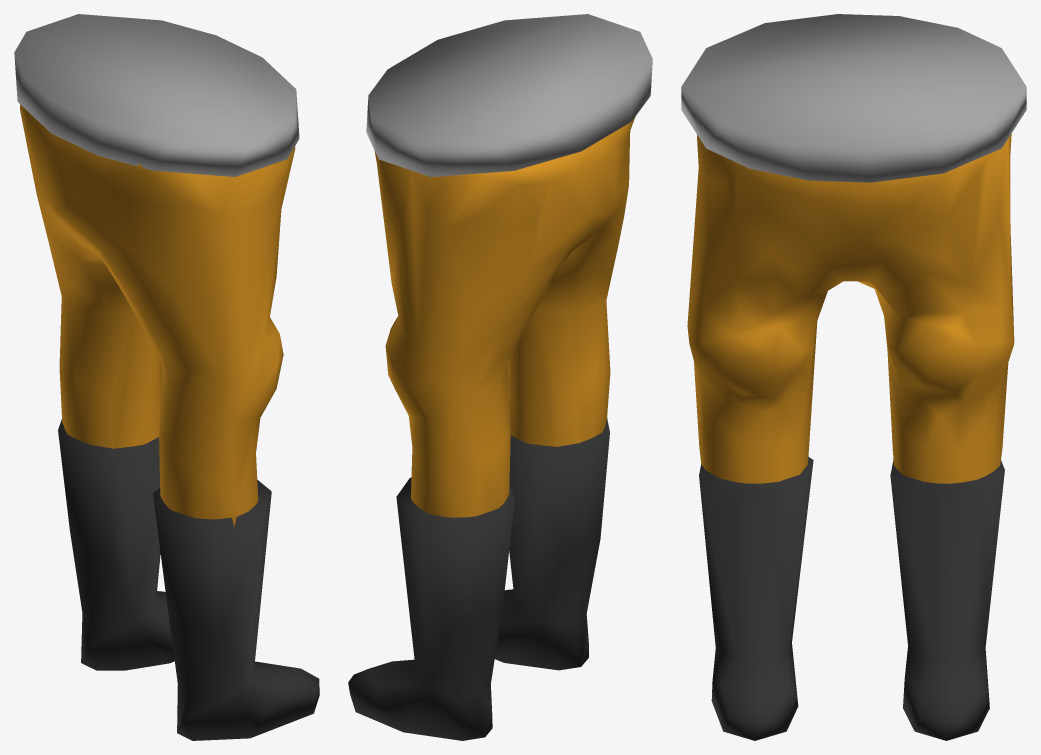
Rendered from legs (1).fbx.
3 views of the same model, side by side, from view 1: azimuth 30°, elevation 25°; view 2: azimuth 150°, elevation 25°; view 3: azimuth 270°, elevation 25° (orthographic).
Visible parts, largest first — view 1: Cube.003; view 2: Cube.003; view 3: Cube.003.
Boxes of the visible parts, x1,y1,x2,y2 form: Cube.003: (14,14,319,740); Cube.003: (348,14,652,740); Cube.003: (681,14,1026,740).
Size of the model in its own units: 317 by 836 by 419.
